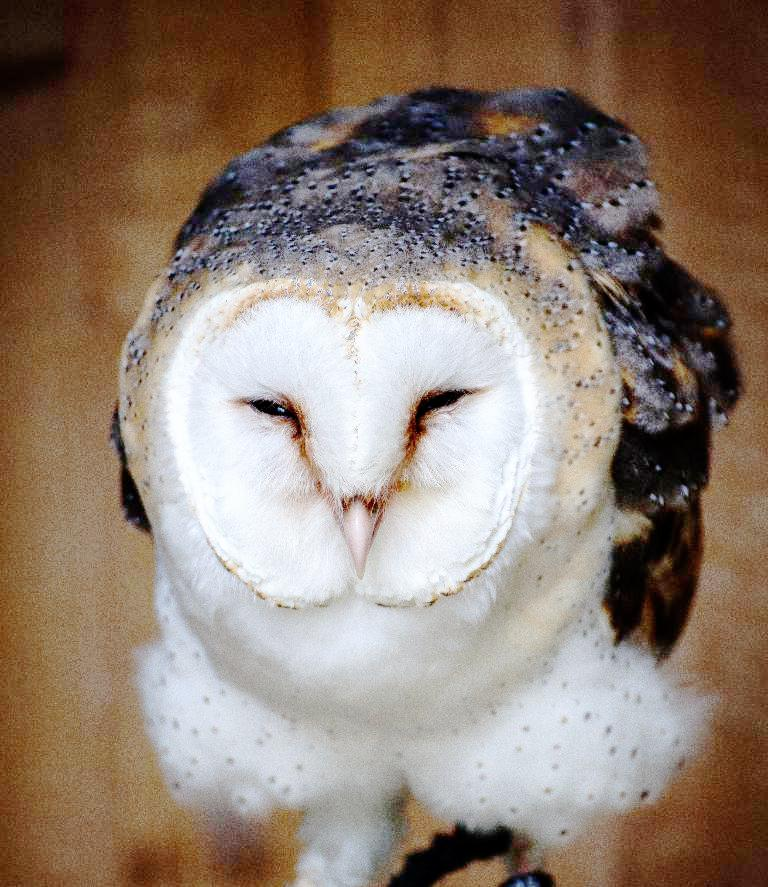Owl: (108, 78, 755, 880)
